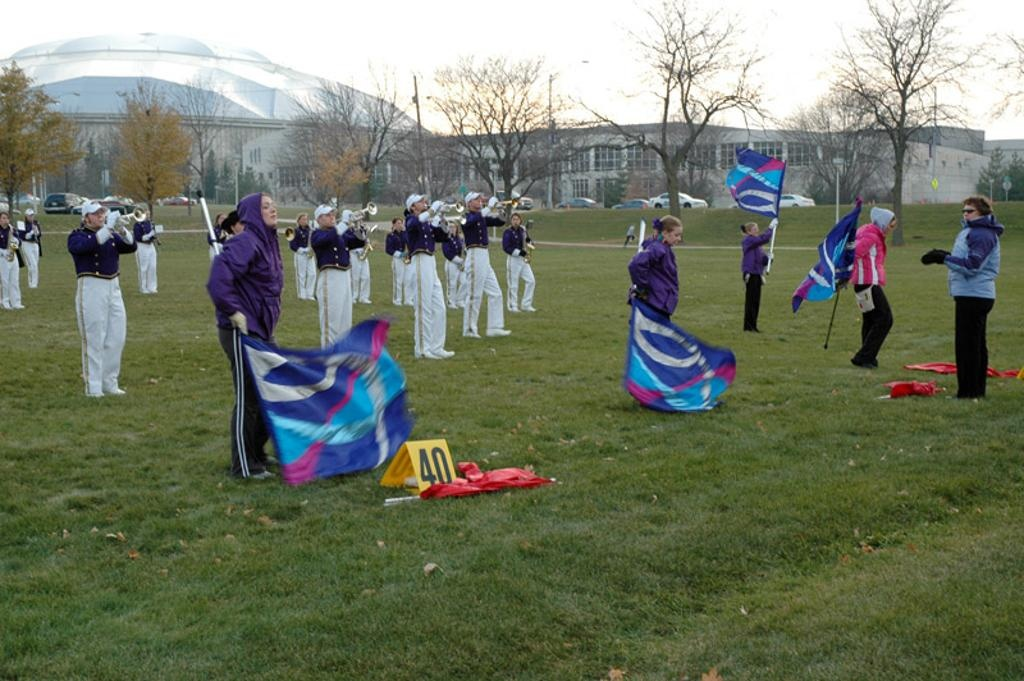human_face: (256, 194, 276, 224), (86, 210, 104, 226), (962, 204, 976, 222), (668, 226, 680, 246), (320, 210, 334, 226), (886, 217, 896, 233), (413, 198, 423, 210), (470, 196, 480, 207), (234, 221, 244, 232), (0, 212, 9, 224), (750, 224, 758, 234), (510, 214, 518, 224), (393, 218, 401, 228), (218, 214, 224, 224), (448, 224, 454, 232), (298, 216, 304, 224), (27, 213, 33, 220), (143, 210, 149, 216)
